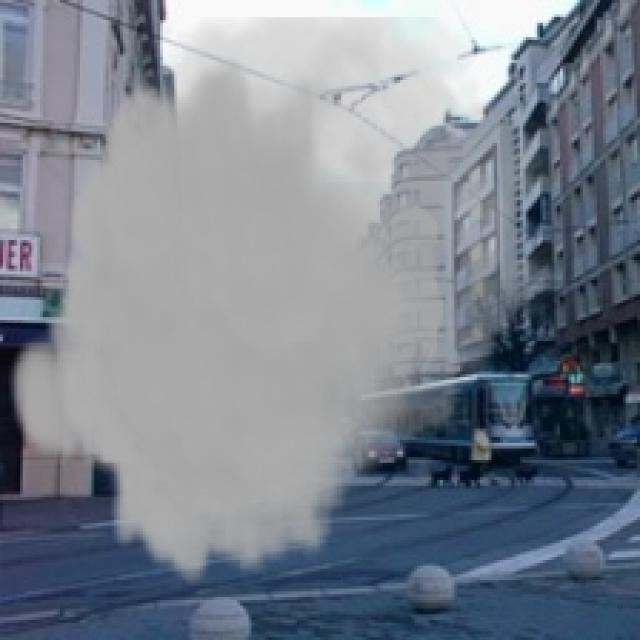smoke: (6, 17, 563, 586)
